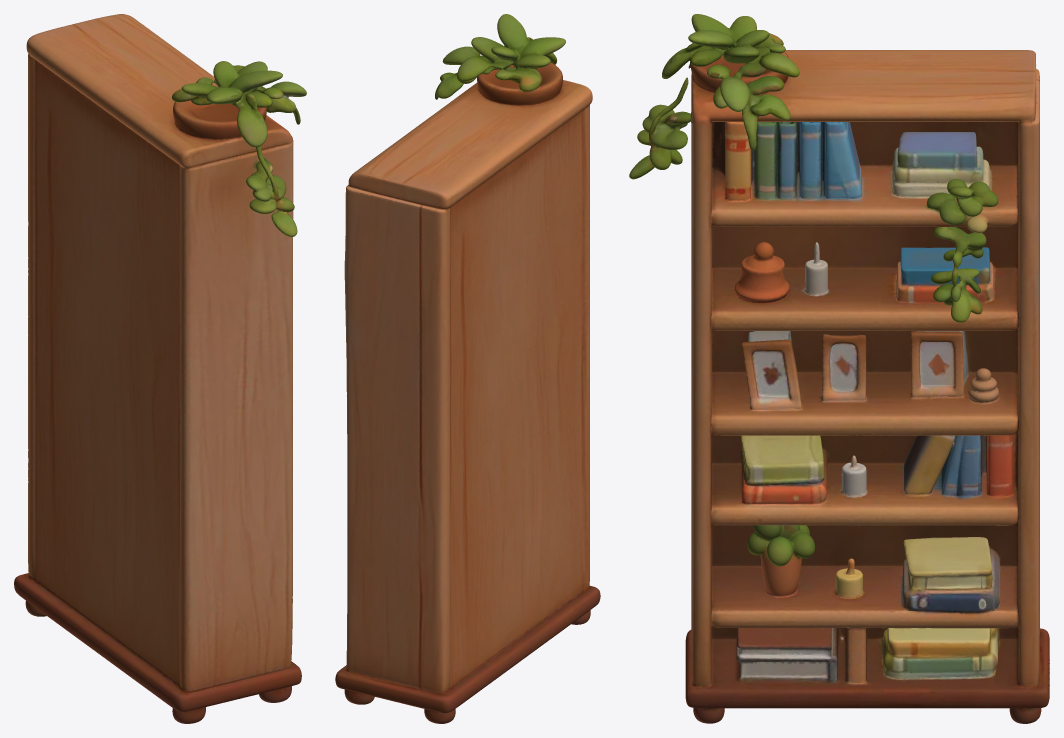
File: bookshelf.glb
The picture shows the model from 3 angles, left to right: view 1: azimuth 30°, elevation 25°; view 2: azimuth 150°, elevation 25°; view 3: azimuth 270°, elevation 25°; orthographic projection. The views are drawn at different scales.
Parts seen in each view (by area): view 1: tripo_node_85a3ba26-e69f-40f9-973e-76b35aee27bb; view 2: tripo_node_85a3ba26-e69f-40f9-973e-76b35aee27bb; view 3: tripo_node_85a3ba26-e69f-40f9-973e-76b35aee27bb.
Boxes of the visible parts, left/top/right/bottom form: tripo_node_85a3ba26-e69f-40f9-973e-76b35aee27bb: left=14, top=14, right=306, bottom=723; tripo_node_85a3ba26-e69f-40f9-973e-76b35aee27bb: left=335, top=14, right=600, bottom=723; tripo_node_85a3ba26-e69f-40f9-973e-76b35aee27bb: left=629, top=14, right=1049, bottom=723.
Size of the model in its own units: 0.2516 by 1 by 0.5596.
Materials: 1 (1 with a texture image).
